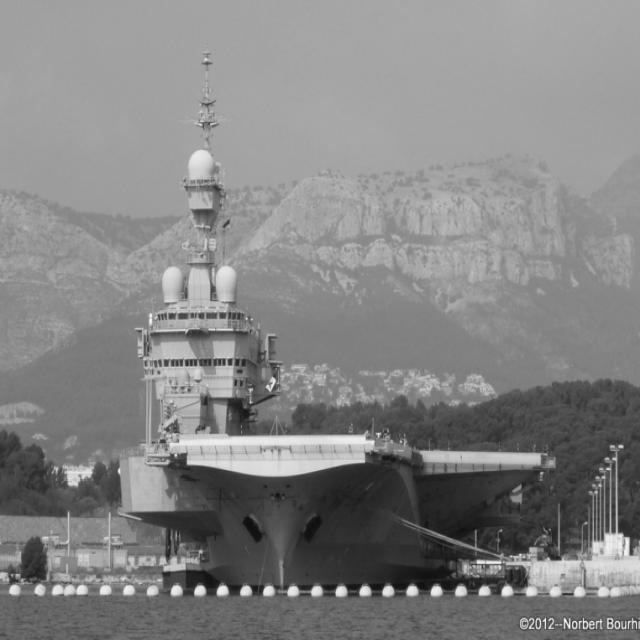Portanaves: (115, 1, 561, 593)
